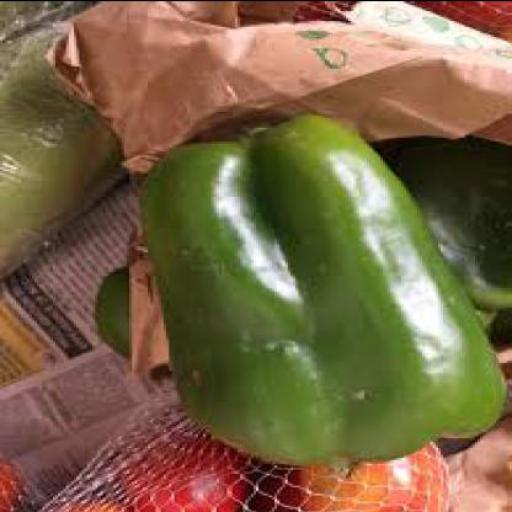biodegradable: (137, 115, 504, 470), (362, 137, 509, 352), (0, 33, 119, 275), (106, 408, 257, 510), (245, 438, 450, 511), (90, 265, 129, 368), (0, 458, 31, 511), (44, 502, 127, 511)
paper: (42, 2, 509, 176), (0, 176, 138, 502), (129, 238, 169, 388), (443, 438, 511, 511)
